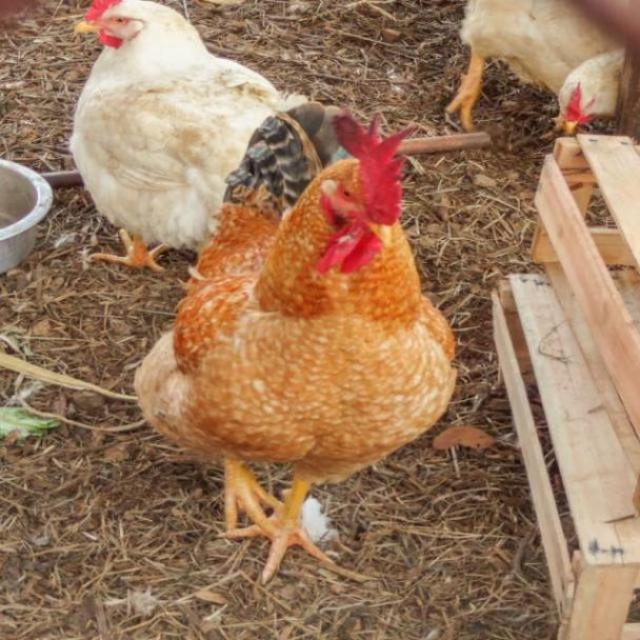Chicken: (132, 97, 461, 575), (73, 0, 316, 267), (451, 0, 622, 140)
